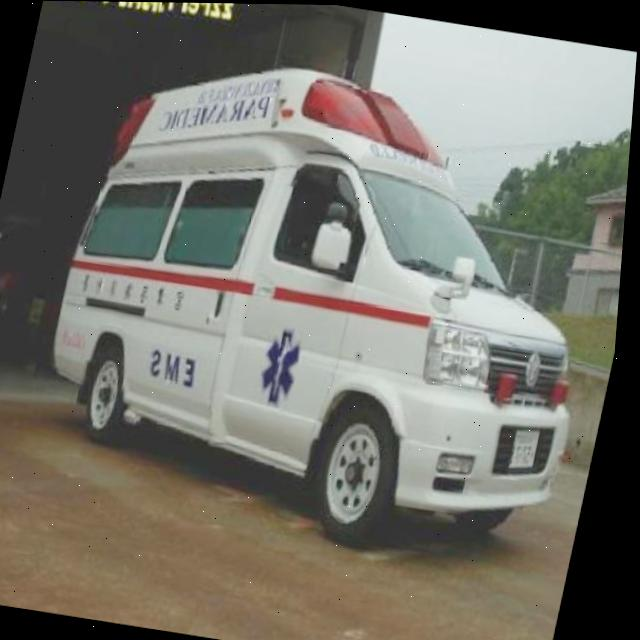emergency: (18, 34, 638, 571)
